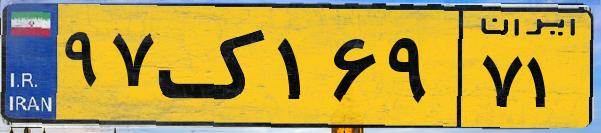1: (270, 28, 330, 110), (525, 38, 570, 115)
6: (330, 28, 385, 110)
7: (475, 38, 525, 113), (110, 28, 158, 98)
9: (385, 28, 445, 110), (57, 26, 110, 100)
ک: (158, 12, 270, 120)
